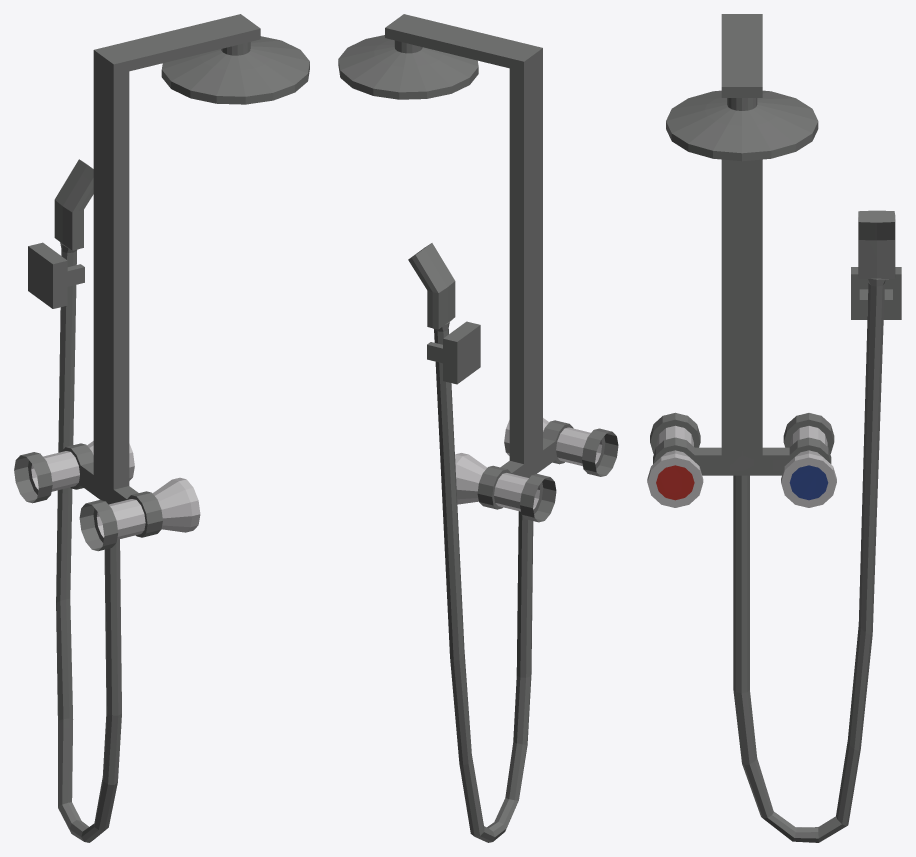
Rendered from SM_Shower_02.glb.
3 views of the same model, side by side, from view 1: azimuth 30°, elevation 25°; view 2: azimuth 150°, elevation 25°; view 3: azimuth 270°, elevation 25° (orthographic). The views are drawn at different scales.
Visible parts, largest first — view 1: SM_Shower_02; view 2: SM_Shower_02; view 3: SM_Shower_02.
Part boxes in pixels (box(x1,y1,x2,y2)): SM_Shower_02: box(14, 14, 309, 842); SM_Shower_02: box(338, 14, 618, 842); SM_Shower_02: box(647, 14, 901, 842).
Size of the model in its own units: 0.3523 by 1.13 by 0.3151.
1 material, 1 textured.
